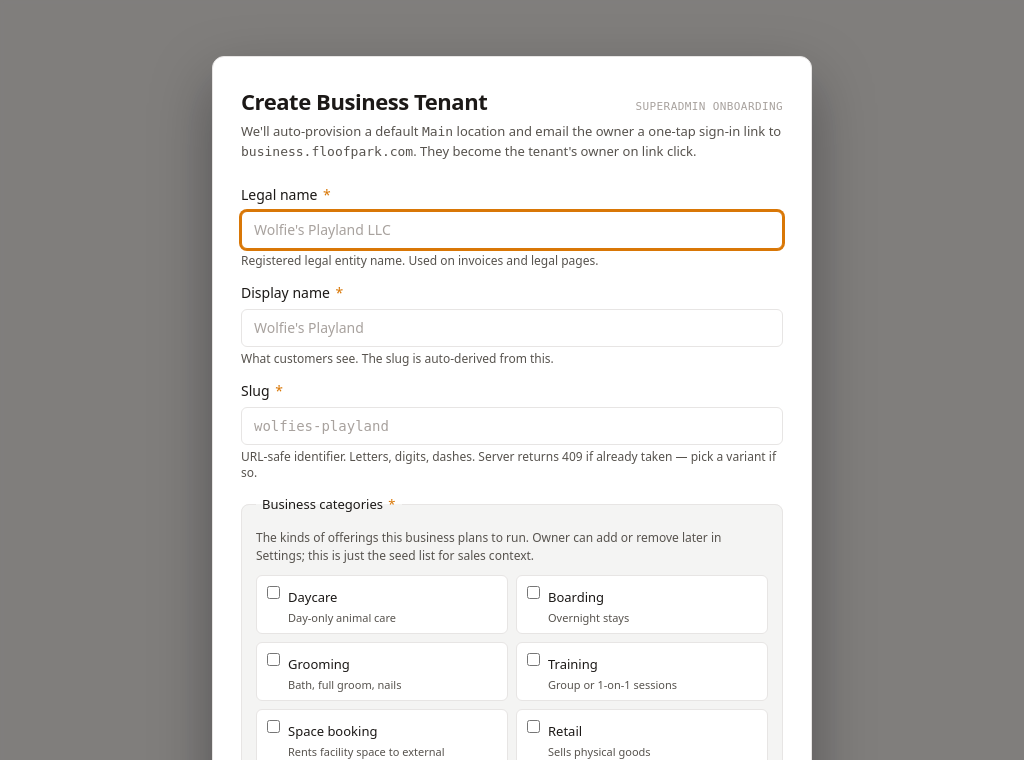
Test: surfaces 4xx error message
Type "X" into the field labelled "Legal name *" at (512, 230), box [241, 211, 783, 249]
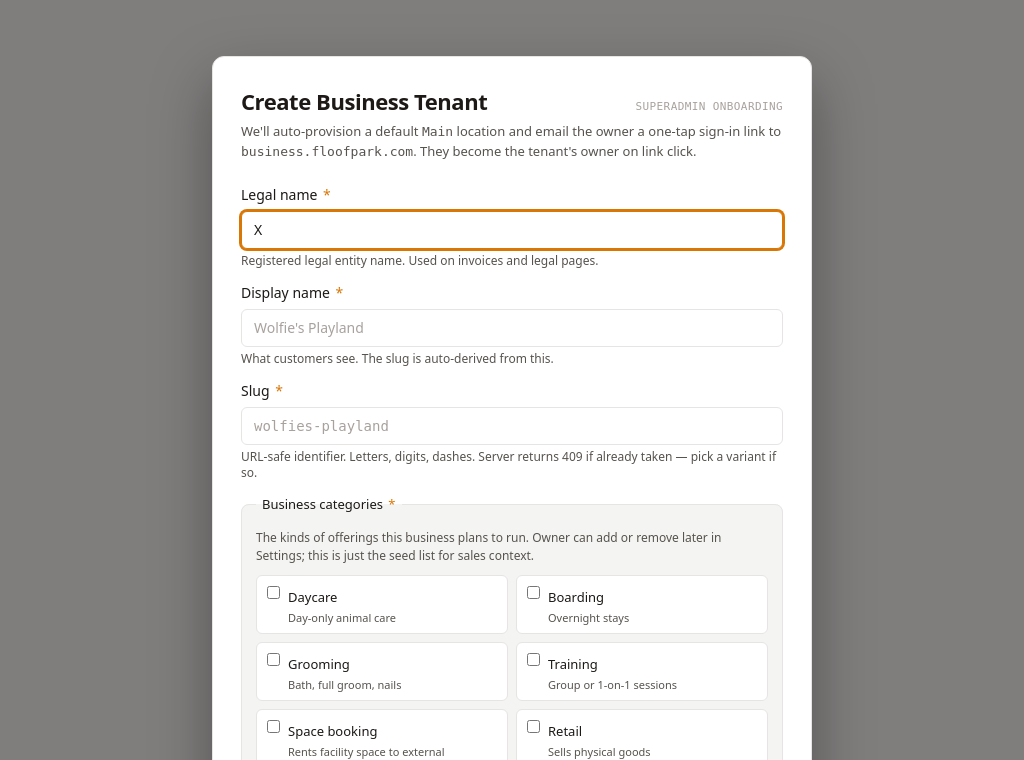
Type "X" into the field labelled "Display name *" at (512, 328), box [241, 309, 783, 347]
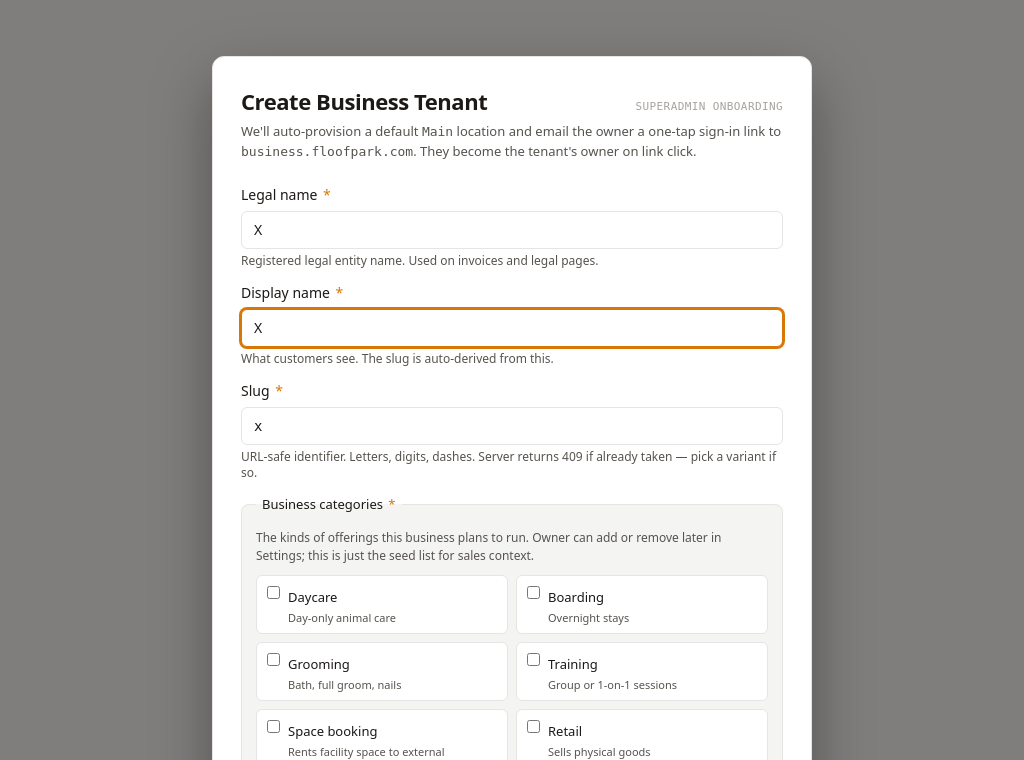
Click the checkbox labelled "Daycare Day-only animal care" at (274, 592), box [267, 586, 280, 598]
(page scrolled)
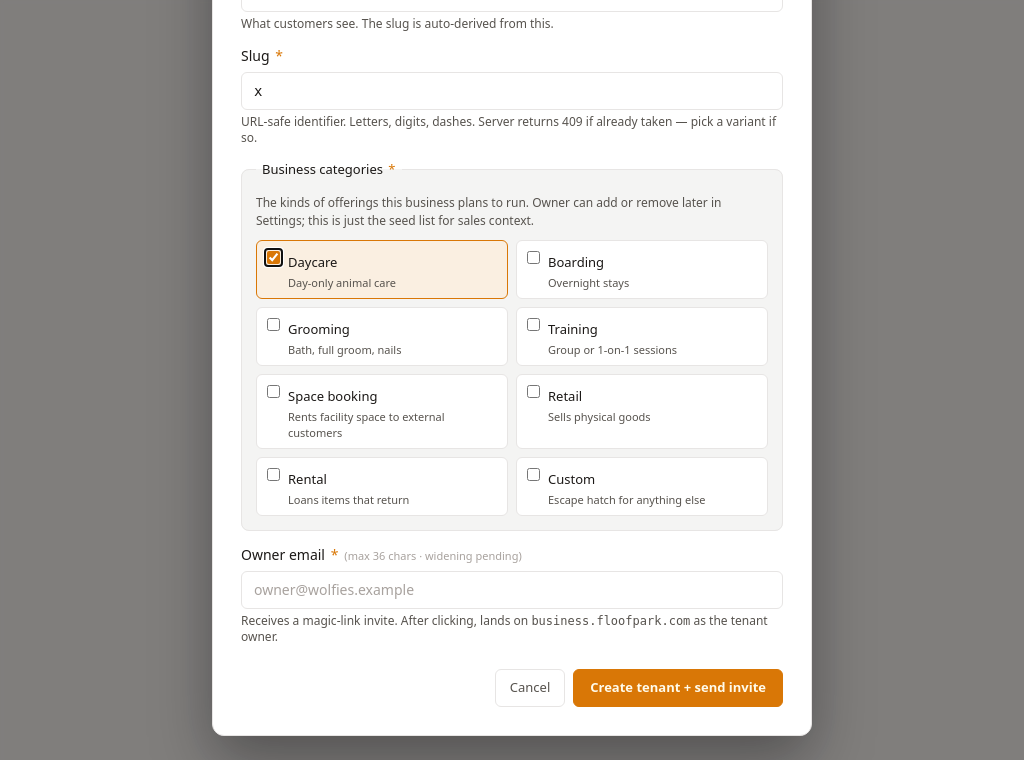
Type "o@p.co" into the field labelled "Owner email *(max 36 chars · widening pending)" at (512, 590), box [241, 572, 783, 610]
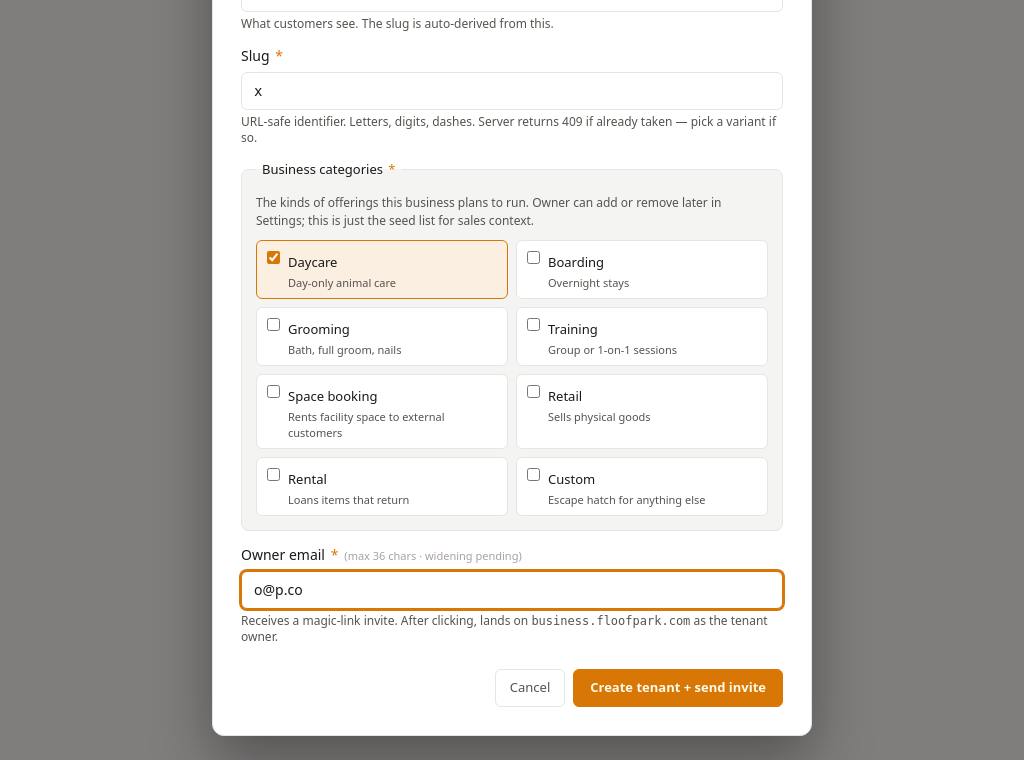
Click the button "Create tenant + send invite" at (678, 688), box [573, 670, 783, 707]
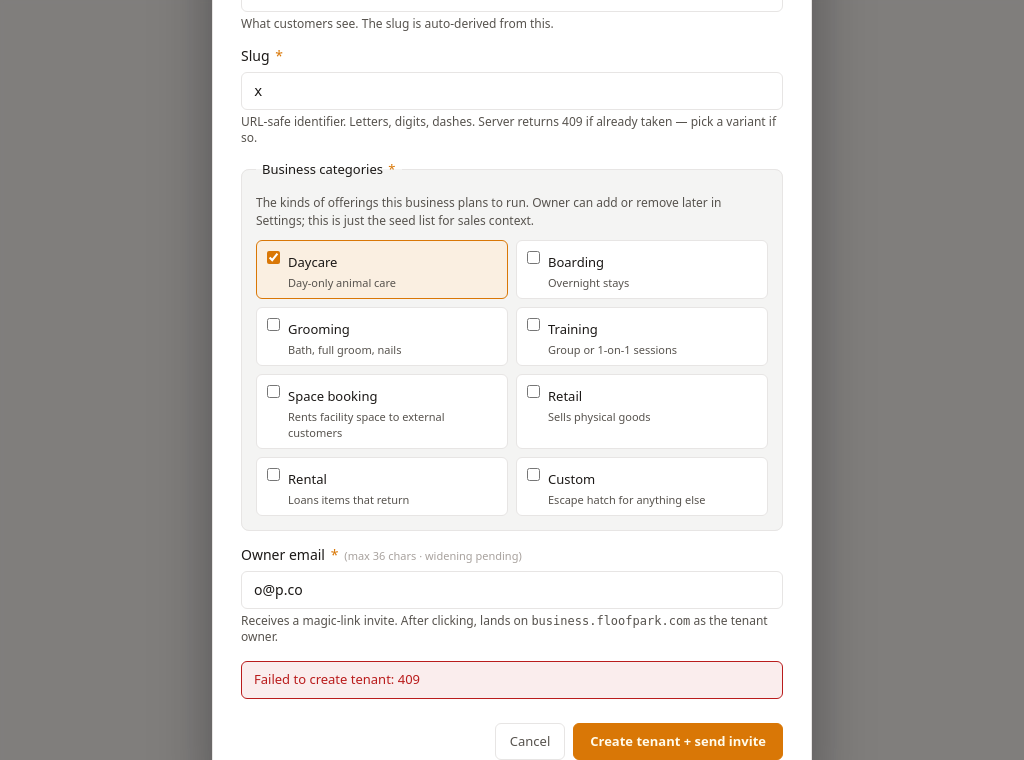
expect the text "Failed to create tenant: 409" is shown: met, box [241, 662, 783, 699]
